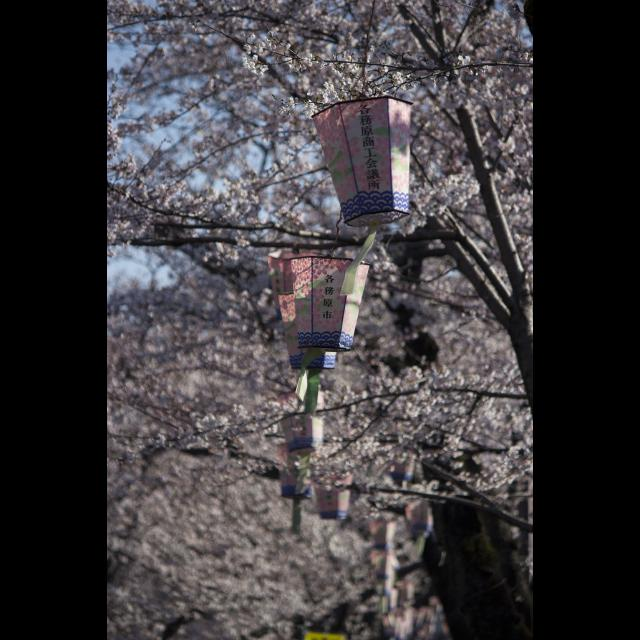Flower: (107, 1, 529, 640), (499, 137, 515, 157)
